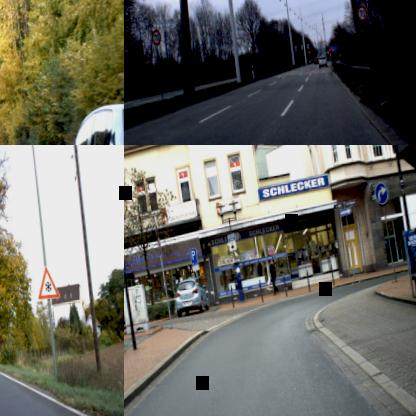SNOW: (34, 264, 60, 300)
go right or straight: (374, 181, 388, 205)
speed limit 70: (356, 3, 368, 22), (150, 28, 162, 45)
